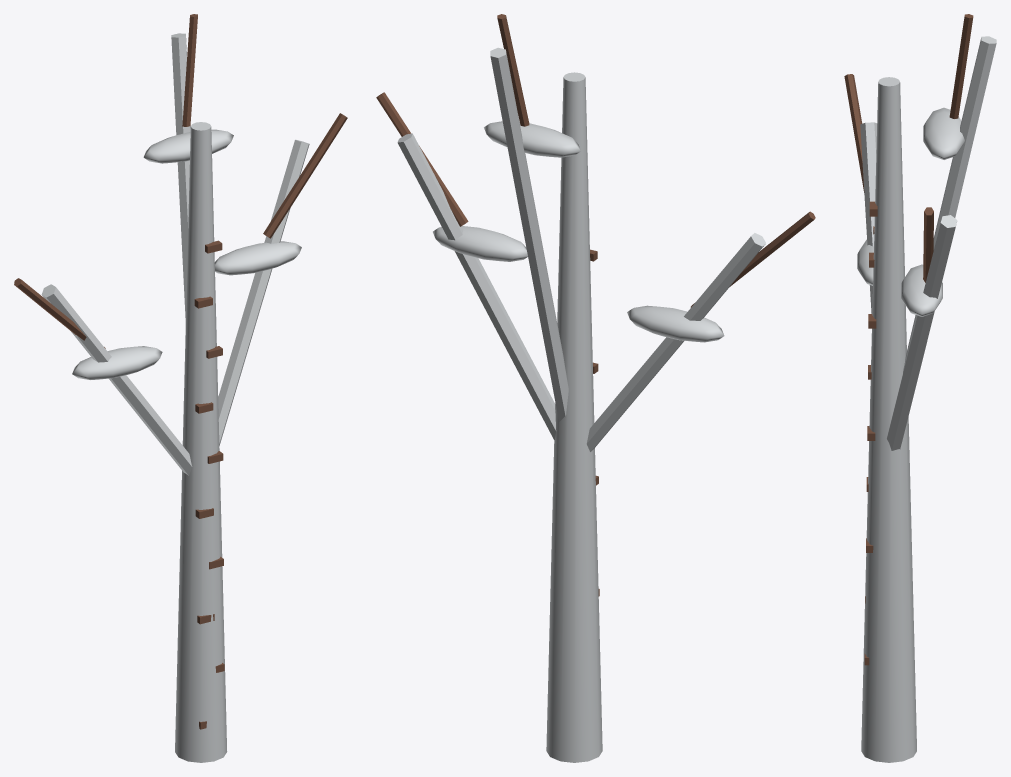
File: alpine-snow-village-frosted-silver-birch-858bff04__19787.glb
The picture shows the model from 3 angles, left to right: view 1: azimuth 30°, elevation 25°; view 2: azimuth 150°, elevation 25°; view 3: azimuth 270°, elevation 25°; orthographic projection. The views are drawn at different scales.
Parts seen in each view (by area): view 1: frosted-silver-birch-snow, frosted-silver-birch-wood; view 2: frosted-silver-birch-snow, frosted-silver-birch-wood; view 3: frosted-silver-birch-snow, frosted-silver-birch-wood.
Part boxes in pixels (left/top/right/bottom): frosted-silver-birch-snow: left=41, top=33, right=309, bottom=762; frosted-silver-birch-wood: left=14, top=14, right=347, bottom=729; frosted-silver-birch-snow: left=397, top=47, right=765, bottom=762; frosted-silver-birch-wood: left=376, top=14, right=815, bottom=596; frosted-silver-birch-snow: left=857, top=36, right=996, bottom=762; frosted-silver-birch-wood: left=844, top=14, right=973, bottom=665.
Bounding box in the file's own units: 2.28 × 4.15 × 0.7625.
